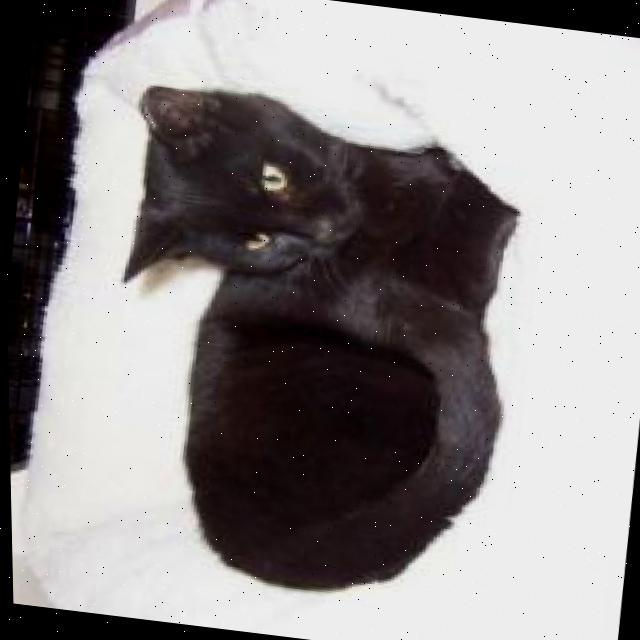Bombay: (76, 74, 544, 616)
